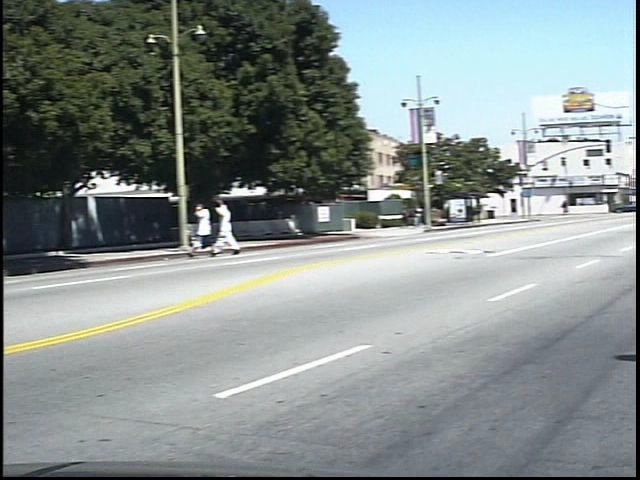person: (207, 195, 233, 258), (228, 197, 253, 258), (425, 203, 440, 229), (571, 193, 583, 219)
